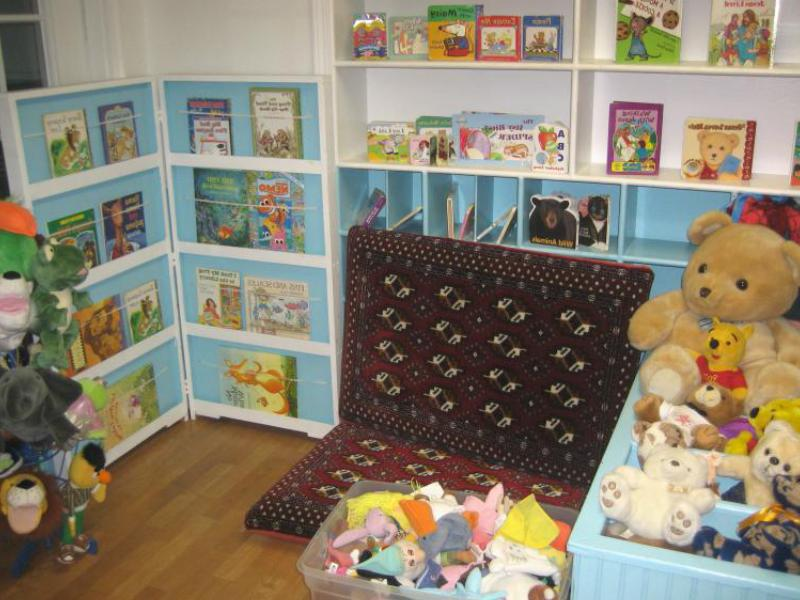Otro Obstaculo: (565, 267, 800, 600)
